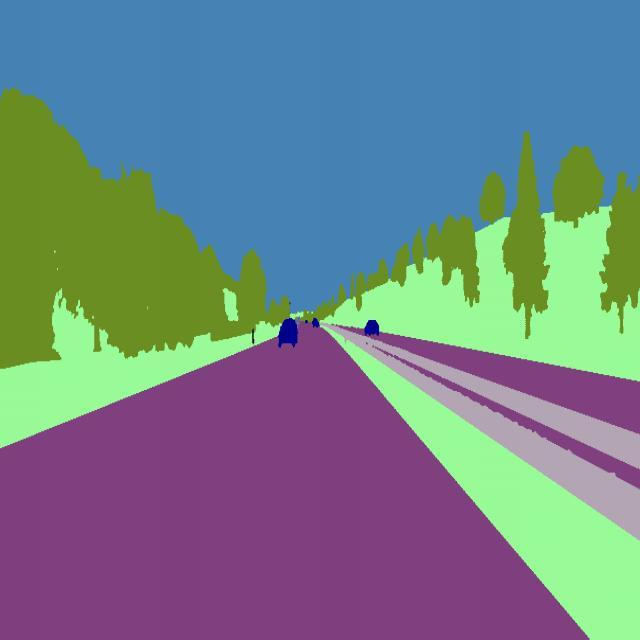safe: (276, 316, 300, 351), (363, 320, 382, 334), (311, 316, 321, 331)
